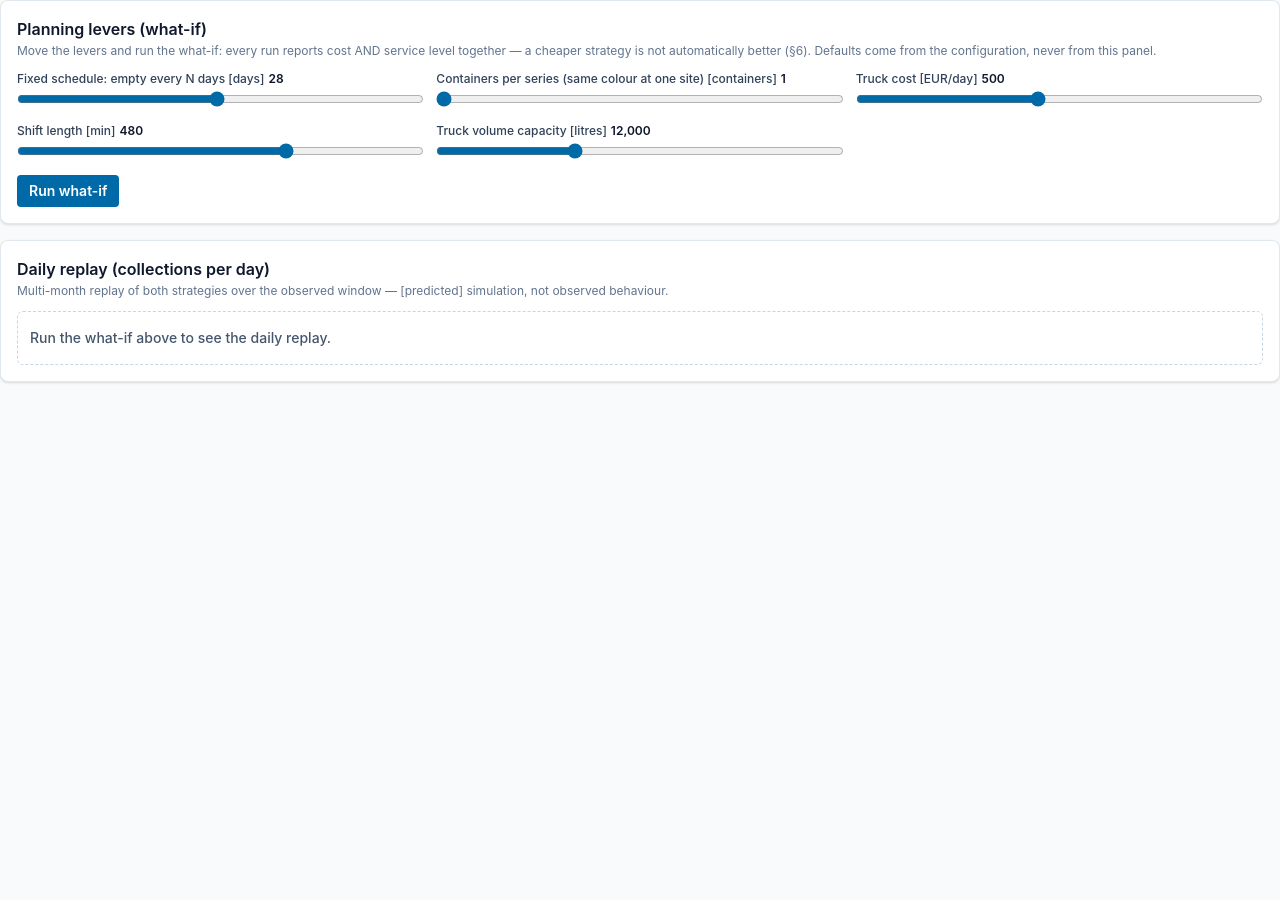
Test case: ScenariosPanel — results (§6 cost + service together) › titles the fixed-frequency card with the echo's frequency_days (never hardcoded 28)
The width and height of the screenshot is (1280, 900).
Click the button with test id "scenarios-run". click: (68, 191)
box: [17, 175, 120, 207]
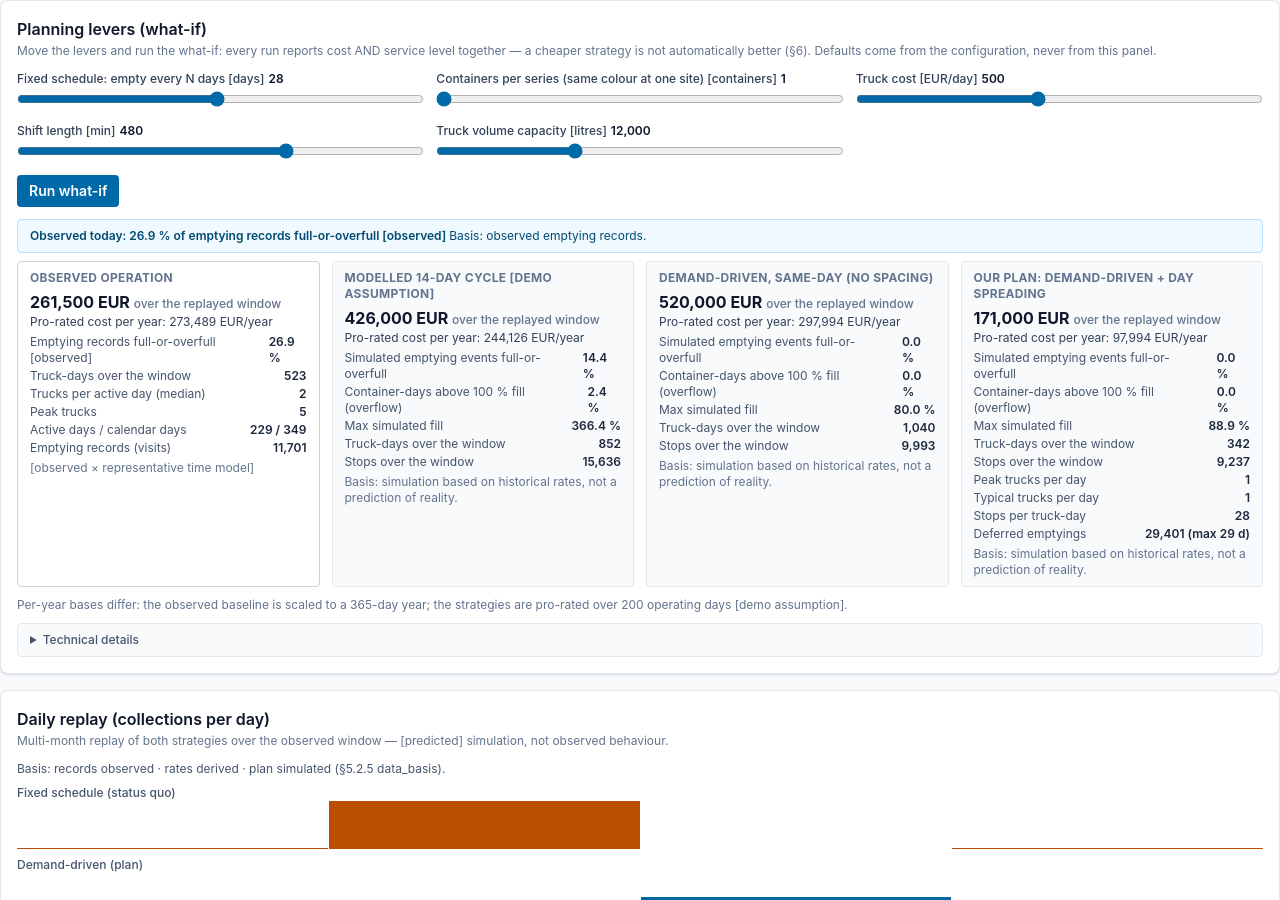
Now the element with test id "scenarios-strategy-fixed" shows "Modelled 14-day cycle [demo assumption]", box [344, 270, 552, 301]
